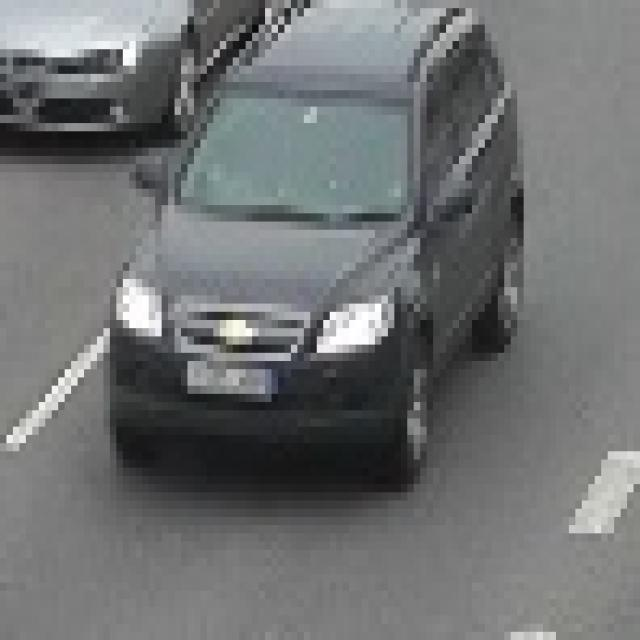SUV: (111, 2, 520, 460)
